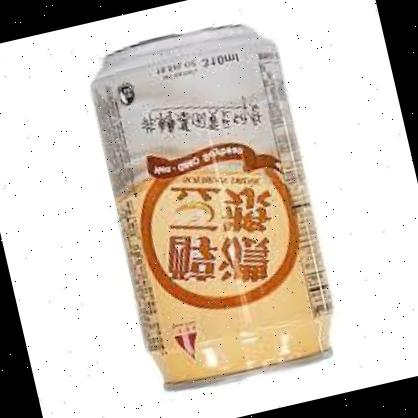can: (78, 8, 350, 400)
